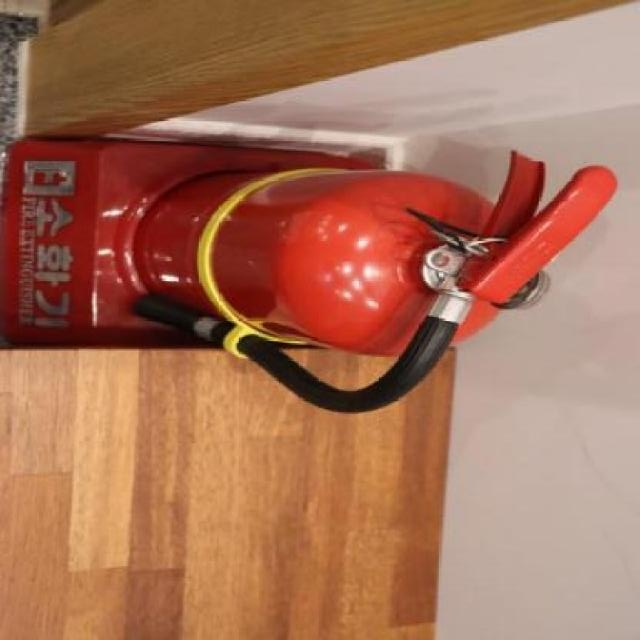fire extinguisher: (131, 151, 618, 414)
